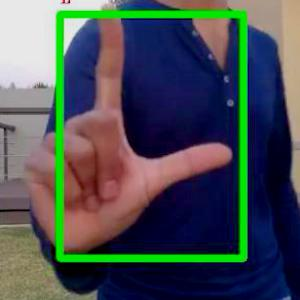land_hand: (12, 0, 240, 259)
